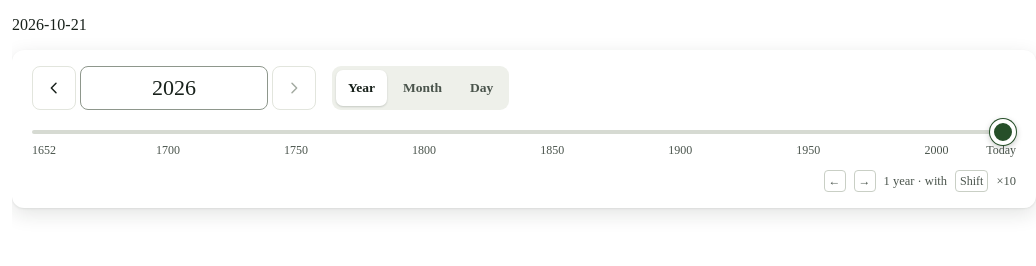
Test case: the no-borders warning › is dropped when the Map date moves on
Replace the text in the field named "Date shown" with "1750" at (174, 88), box 93,66 -> 255,110
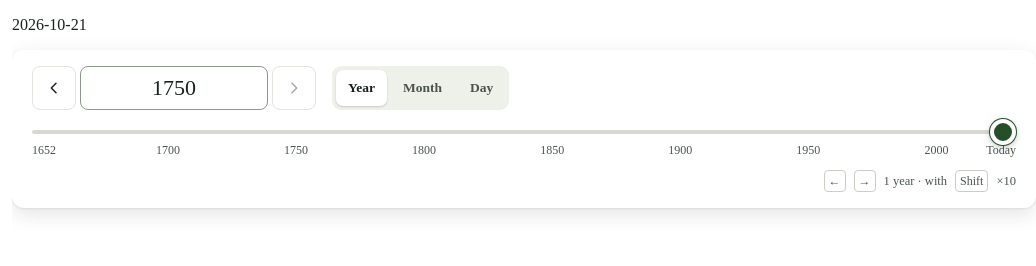
Press Enter in the field named "Date shown", box 93,66 -> 255,110
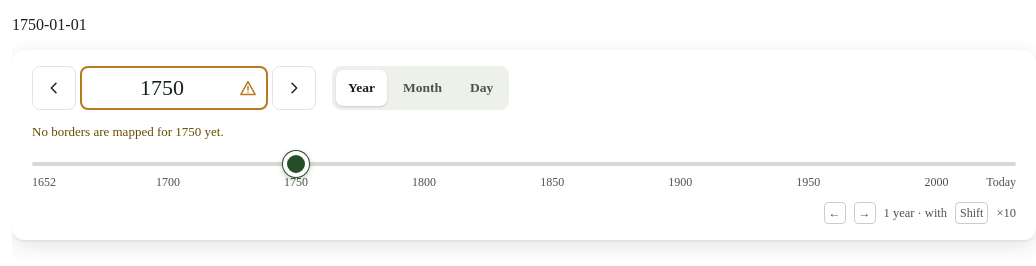
Expected: the message reads "No borders are mapped for 1750 yet.", 32,124 -> 224,139
Set the slider named "Map date" to "248" at (682, 164), box 32,150 -> 1016,178
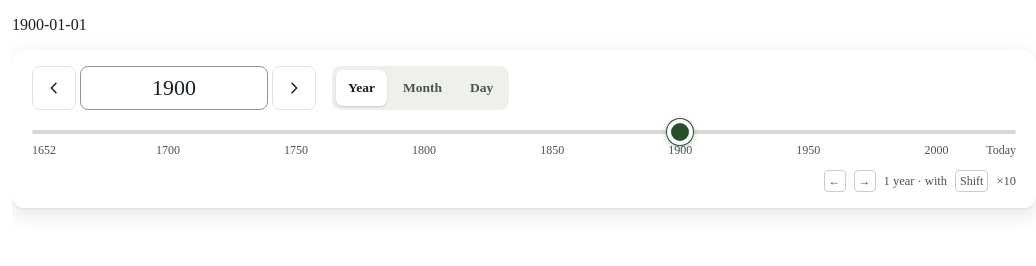
Expected: the text with test id "day" reads "1900-01-01", 12,16 -> 87,33
Expected: the message "No borders are mapped for 1750 yet." is gone
